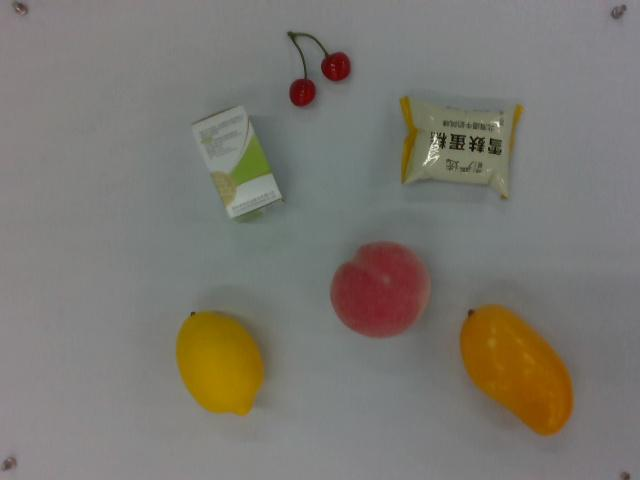carton: (190, 103, 289, 225)
cherry: (284, 24, 354, 111)
dessert: (397, 94, 517, 199)
lemon: (177, 307, 269, 420)
mango: (458, 299, 574, 437)
peach: (326, 235, 430, 345)
